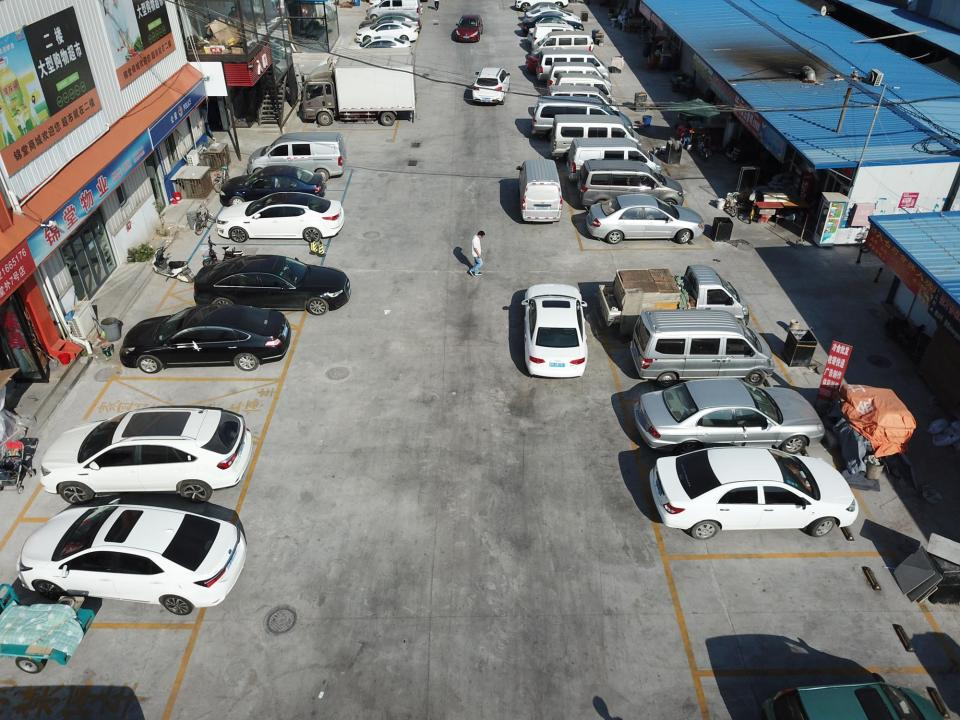car: (18, 499, 250, 609), (638, 447, 856, 540), (37, 400, 248, 489), (634, 380, 829, 449), (122, 305, 286, 370), (197, 255, 351, 312), (765, 674, 944, 718), (519, 279, 588, 385), (584, 193, 706, 244), (576, 157, 688, 206), (219, 197, 348, 239), (243, 130, 354, 178), (548, 113, 649, 153), (530, 97, 636, 134), (565, 136, 666, 174), (219, 169, 325, 198), (534, 46, 614, 74), (472, 61, 512, 107), (546, 59, 612, 86), (555, 72, 617, 96), (537, 30, 594, 54), (451, 6, 485, 46), (520, 12, 585, 32), (547, 87, 617, 105), (356, 24, 419, 41), (526, 7, 583, 24), (366, 0, 421, 16), (349, 36, 413, 49), (360, 13, 420, 25), (516, 2, 570, 10)
truck: (598, 259, 754, 313), (301, 57, 419, 122)
van: (622, 304, 789, 382), (508, 153, 566, 234)
